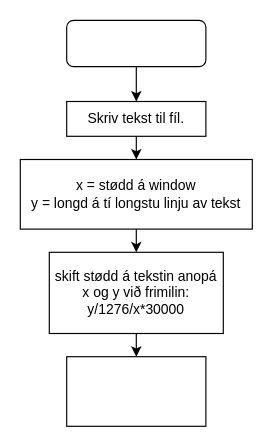
Image size: 273x447. Some labels were removed from this diagram. Each missing label, with the centre of its shape:
"skift stødd av tekst" goes at (136,391).
"Tá brúkarin skrivar ein bokstav." goes at (136,43).
